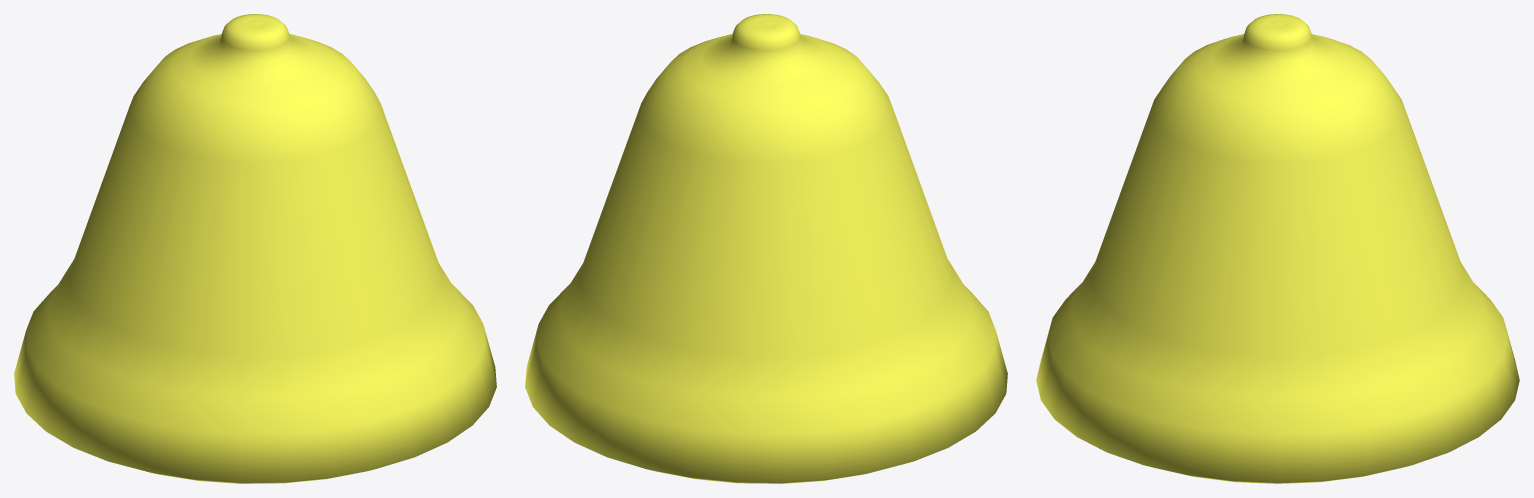
Rendered from bell.fbx.
The picture shows the model from 3 angles, left to right: view 1: azimuth 30°, elevation 25°; view 2: azimuth 150°, elevation 25°; view 3: azimuth 270°, elevation 25°; orthographic projection.
Parts seen in each view (by area): view 1: Circle; view 2: Circle; view 3: Circle.
Boxes of the visible parts, x1=… form: Circle: x1=14, y1=14, x2=496, y2=483; Circle: x1=525, y1=14, x2=1007, y2=483; Circle: x1=1036, y1=14, x2=1519, y2=483.
Bounding box in the file's own units: 200 × 168 × 200.
